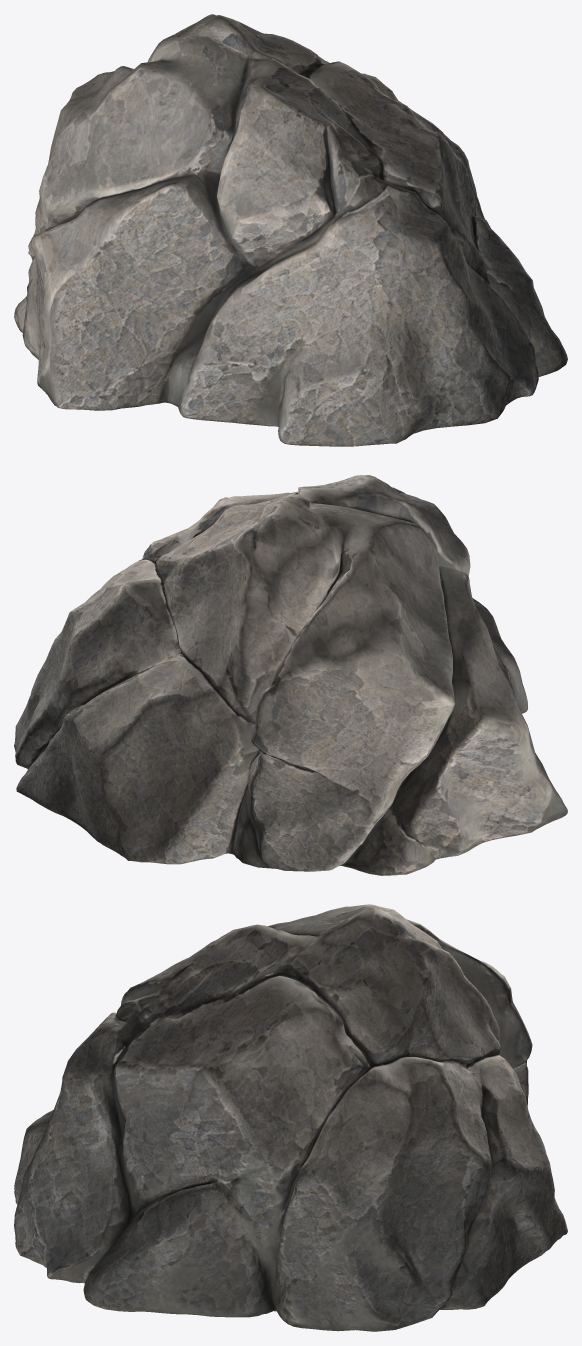
The model's file is Rock6_B.fbx.
3 renders of one model, top to bottom at view 1: azimuth 30°, elevation 25°; view 2: azimuth 150°, elevation 25°; view 3: azimuth 270°, elevation 25°, orthographic. The views are drawn at different scales.
Visible parts, largest first — view 1: tripo_node_2ab2656a; view 2: tripo_node_2ab2656a; view 3: tripo_node_2ab2656a.
Part boxes in pixels (<box>): tripo_node_2ab2656a: <box>14,14,567,446</box>; tripo_node_2ab2656a: <box>14,475,567,875</box>; tripo_node_2ab2656a: <box>14,904,567,1331</box>.
Size of the model in its own units: 99.93 by 100 by 58.81.
